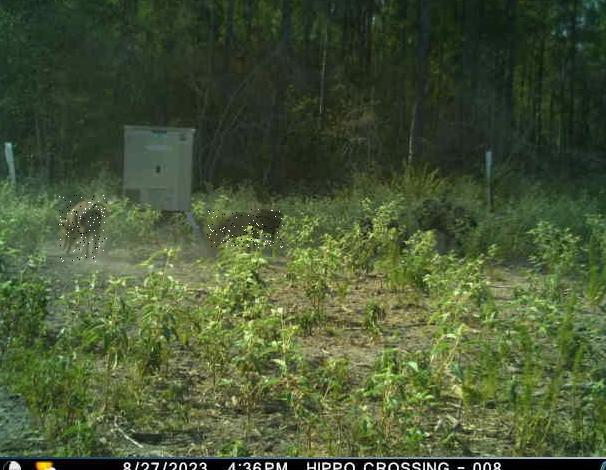Hog: (58, 195, 107, 262), (207, 209, 283, 248)
